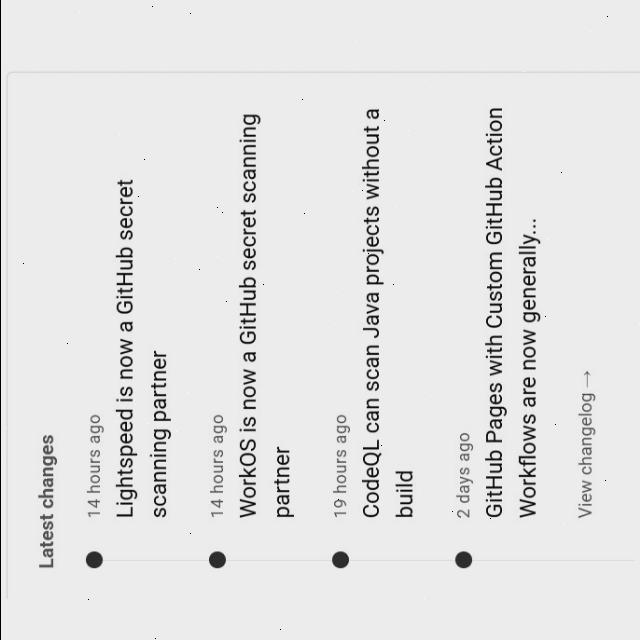QLabel: (35, 435, 55, 575)
VCard: (2, 70, 640, 600)
VTimeline: (77, 101, 638, 581)
